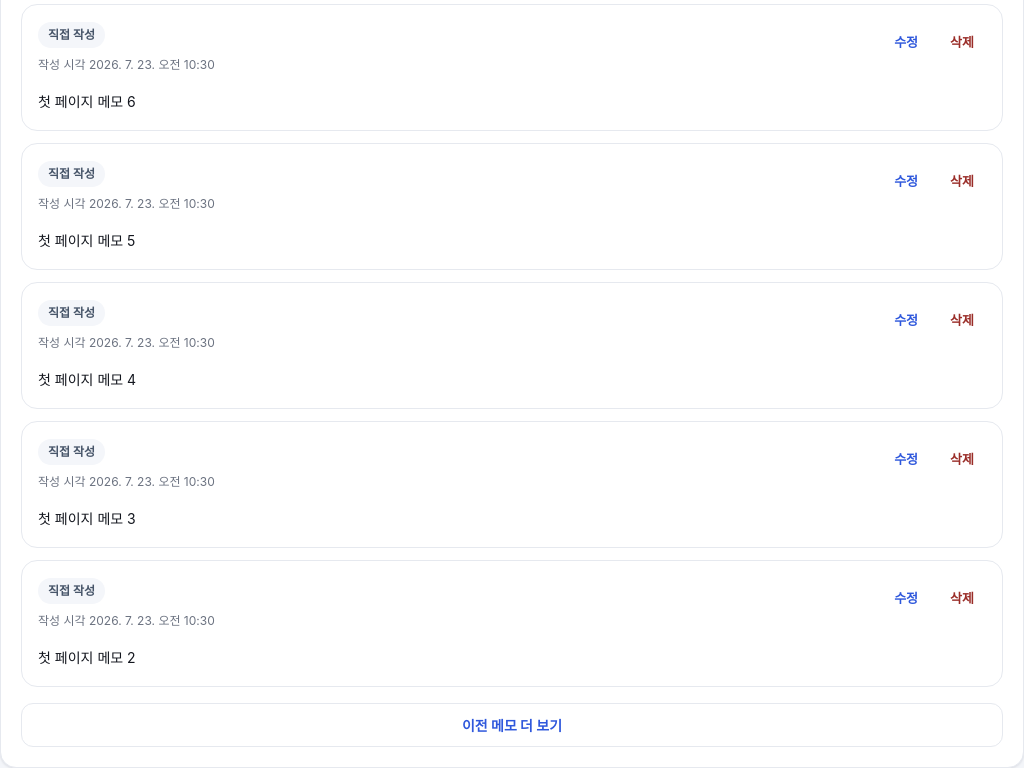
Test: 상담 메모 신뢰성 › 두 번째 페이지 메모 충돌은 카드와 초안을 지키고 최신 revision으로 다시 저장한다
The width and height of the screenshot is (1024, 768).
(page scrolled)
Click the button "이전 메모 더 보기": (512,725) [21,703,1003,747]
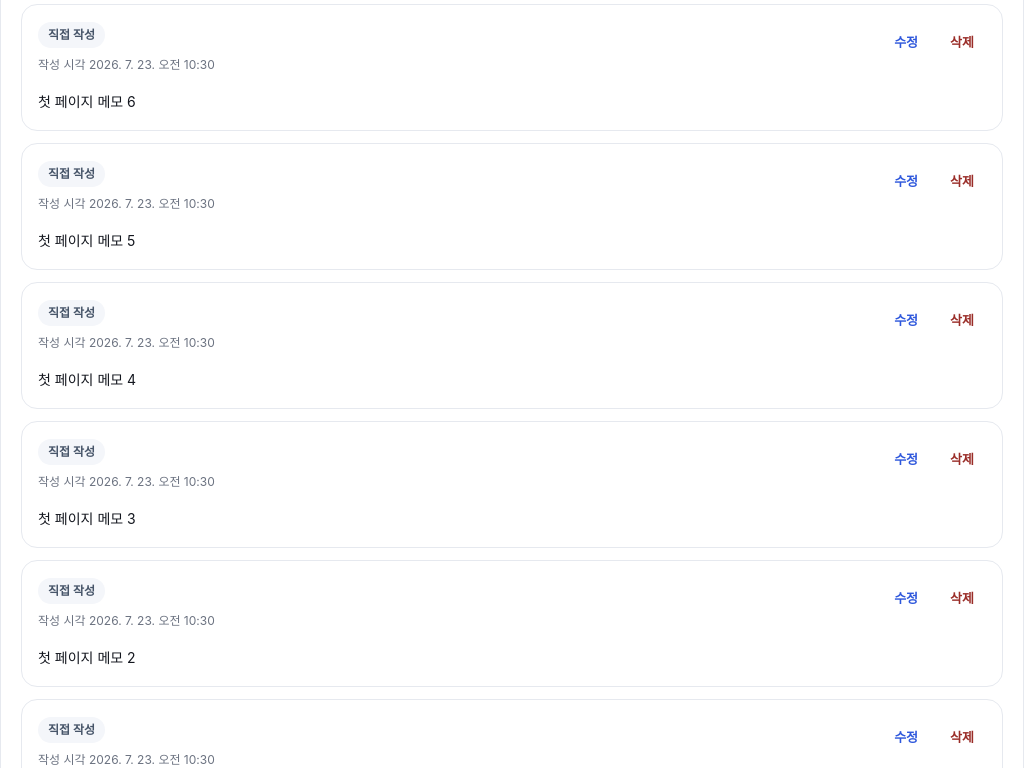
Click the button with aria-label "메모 수정: 두 번째 페이지 이전 내용": (906,738) [882,716,930,760]
(page scrolled)
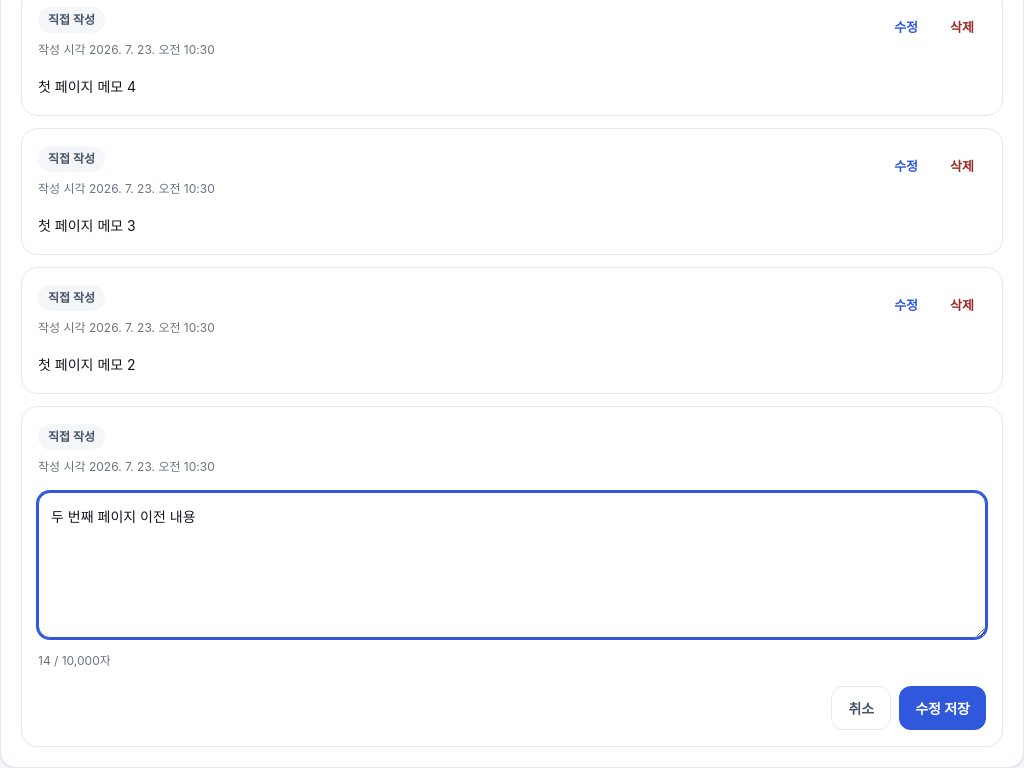
Replace the text in the text box named "메모 수정" with "내가 남긴 두 번째 페이지 초안": (512,565) [38,492,986,638]
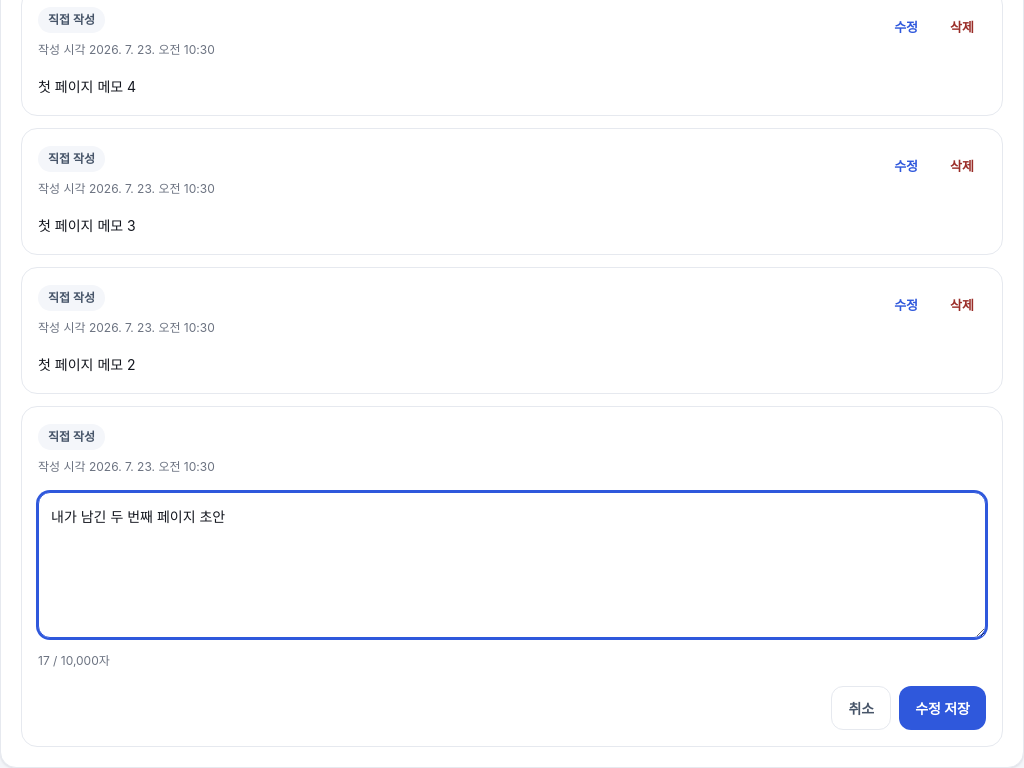
Click the button "수정 저장": (943,708) [899,686,986,730]
(page scrolled)
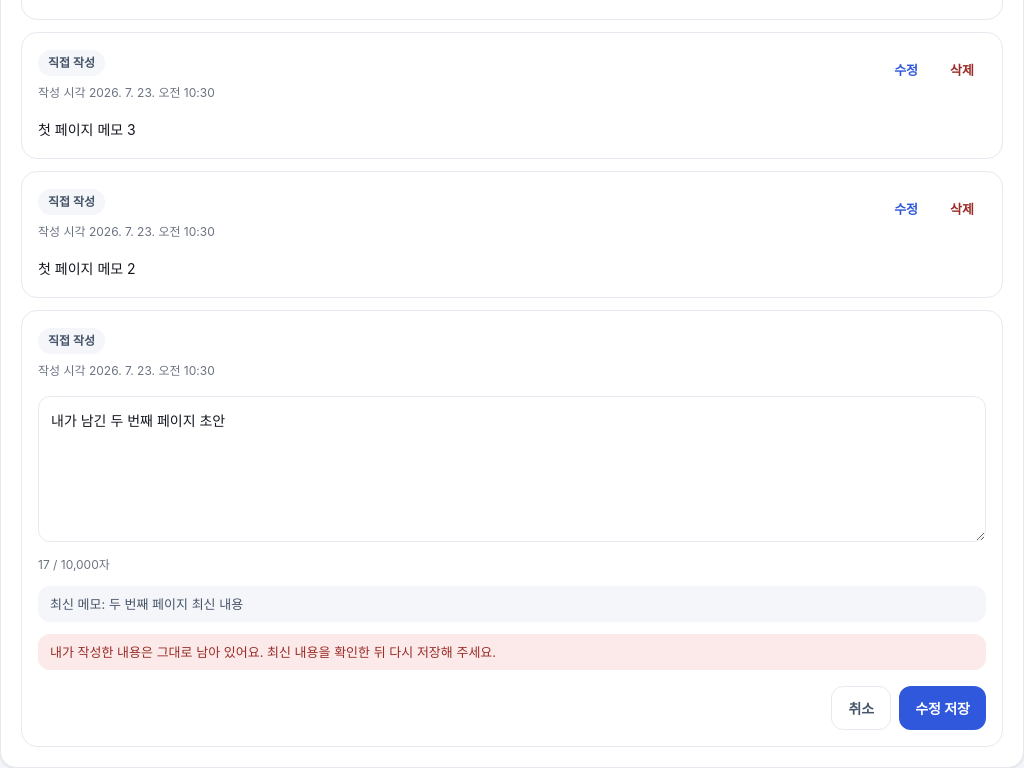
Check: the text "최신 메모: 두 번째 페이지 최신 내용" is shown, box [38,586,986,622]
Click the button "수정 저장": (943,708) [899,686,986,730]
(page scrolled)
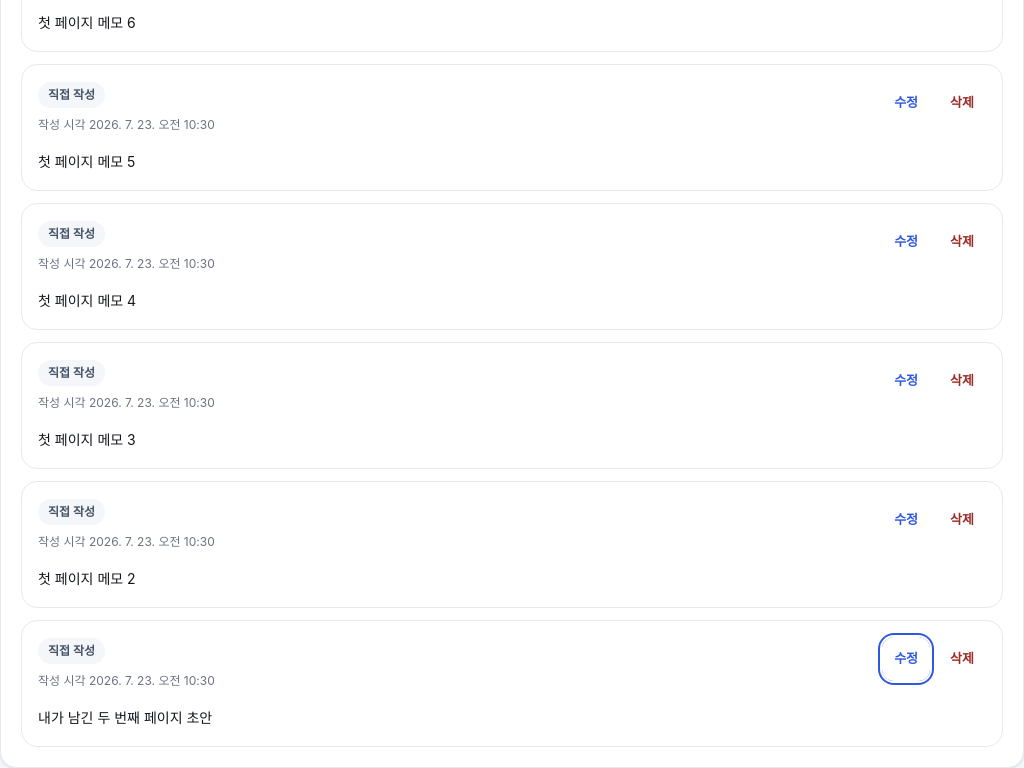
Check: the text "내가 남긴 두 번째 페이지 초안" is shown, box [38,709,212,726]
